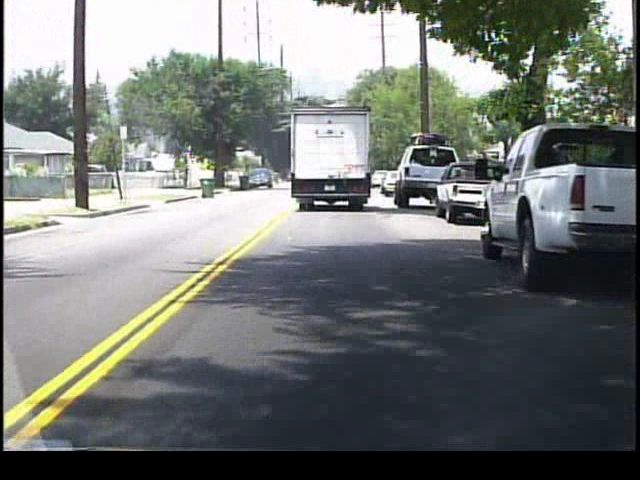person: (182, 164, 192, 188)
